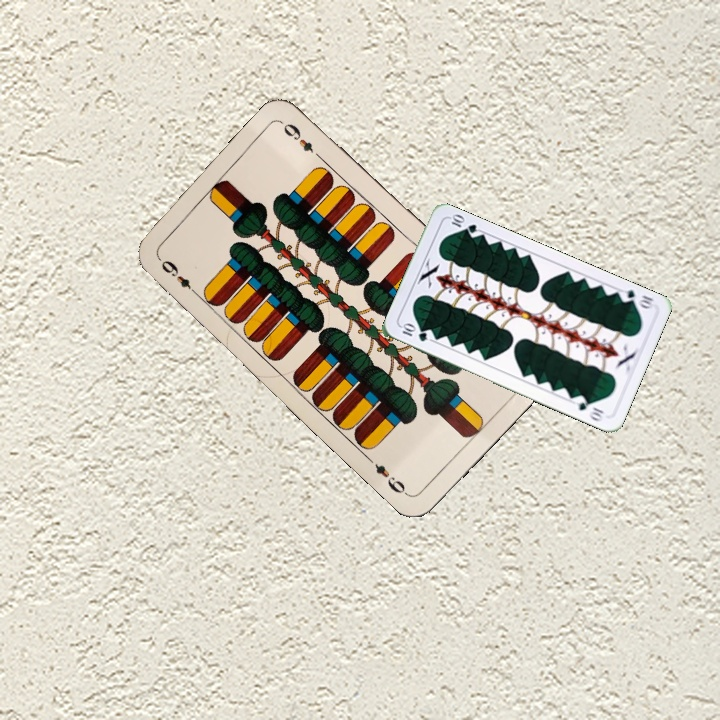E9: (154, 253, 201, 298)
G10: (615, 286, 656, 312), (397, 320, 430, 344)
